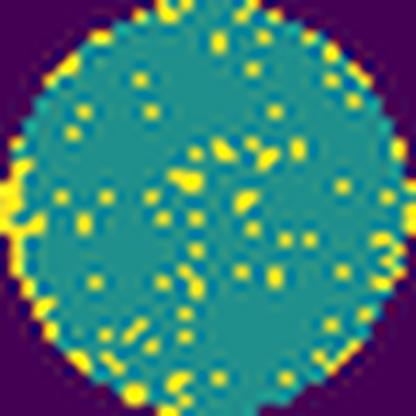Edge-Loc: (0, 158, 64, 341), (404, 199, 416, 248)
